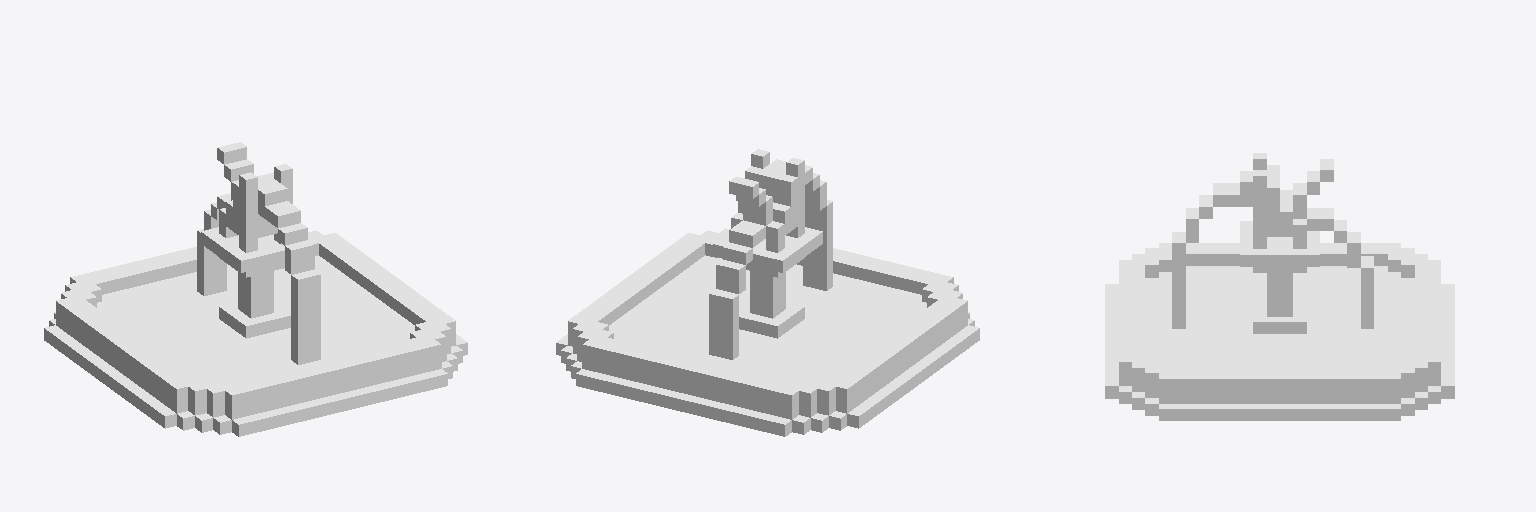
File: Fonteintje.obj
3 views of the same model, side by side, from view 1: azimuth 30°, elevation 25°; view 2: azimuth 150°, elevation 25°; view 3: azimuth 270°, elevation 25° (orthographic).
Parts seen in each view (by area): view 1: Fonteintje; view 2: Fonteintje; view 3: Fonteintje.
Part boxes in pixels (x1,y1,x2,y2): Fonteintje: (44,142,467,436); Fonteintje: (556,149,979,436); Fonteintje: (1105,153,1454,420).
Bounding box in the file's own units: 26 × 15 × 26.